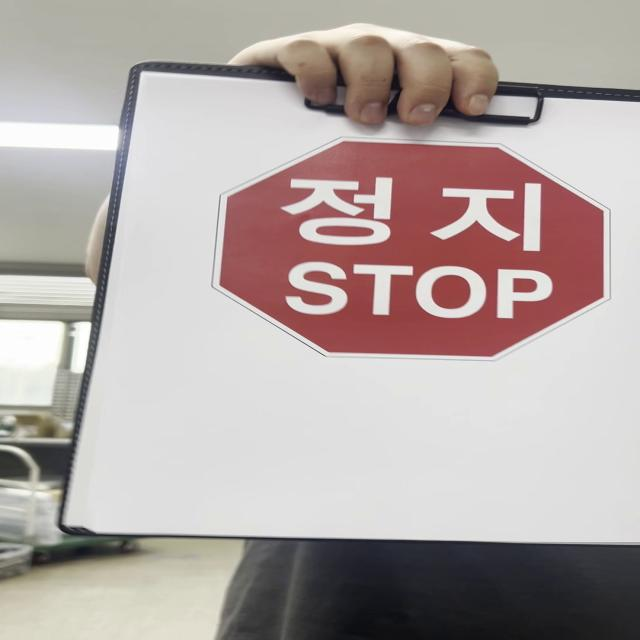stop: (213, 139, 609, 363)
